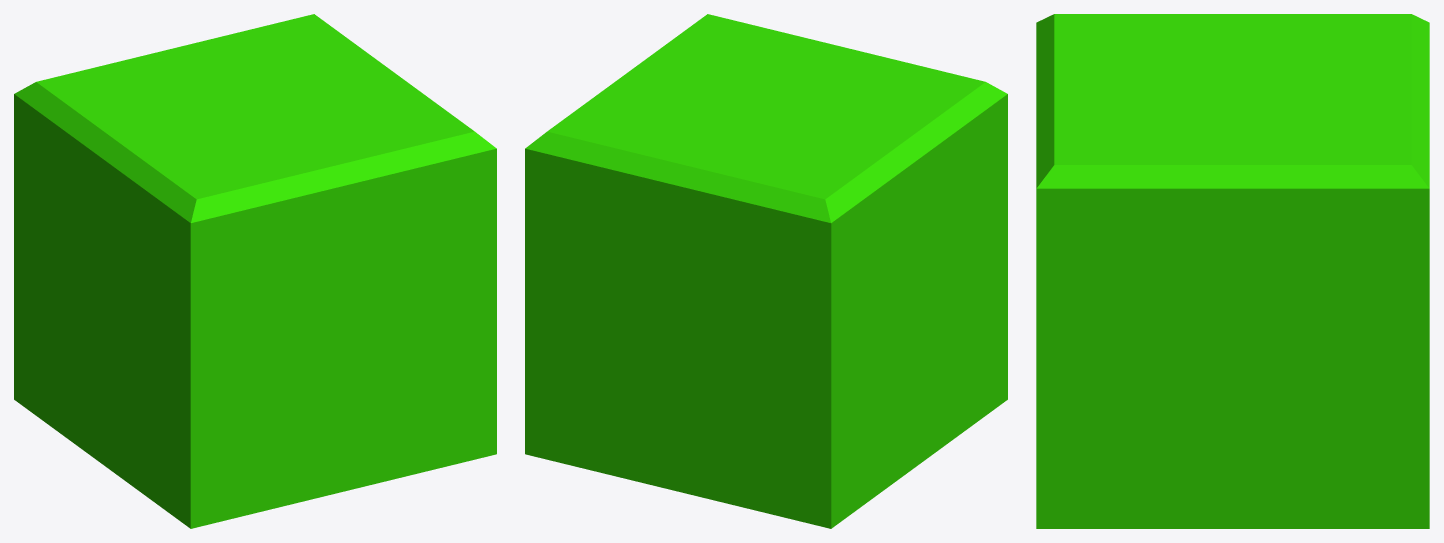
Rendered from basic_1x1.fbx.
3 renders of one model, left to right at view 1: azimuth 30°, elevation 25°; view 2: azimuth 150°, elevation 25°; view 3: azimuth 270°, elevation 25°, orthographic. The views are drawn at different scales.
Parts seen in each view (by area): view 1: basic_1x1; view 2: basic_1x1; view 3: basic_1x1.
Boxes of the visible parts, bbox=[...] form: basic_1x1: bbox=[14, 14, 496, 528]; basic_1x1: bbox=[525, 14, 1007, 528]; basic_1x1: bbox=[1036, 14, 1429, 528].
Size of the model in its own units: 110 by 110 by 110.
